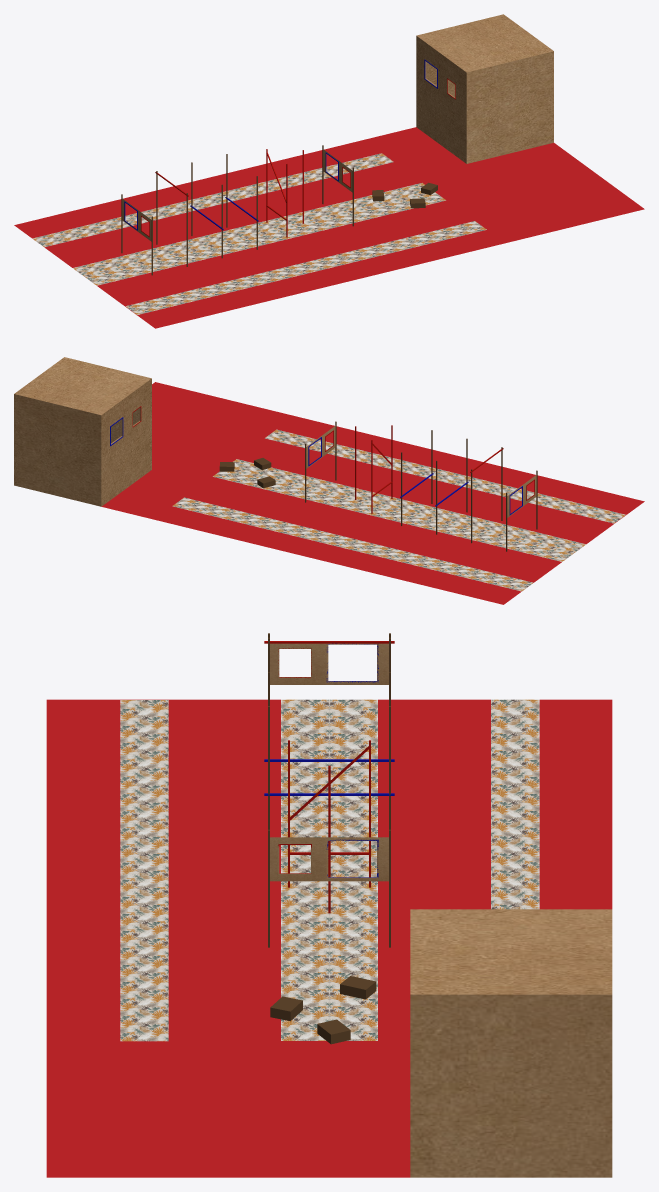
File: all.glb
The picture shows the model from 3 angles, top to bottom: view 1: azimuth 30°, elevation 25°; view 2: azimuth 150°, elevation 25°; view 3: azimuth 270°, elevation 25°; orthographic projection. The views are drawn at different scales.
Visible parts, largest first — view 1: carpete, caixa, wallpaper_right, wallpaper_center_right, wallpaper_center_left, wallpaper_left, janelas, janelas.001, canos; view 2: carpete, caixa, wallpaper_left, wallpaper_center_right, wallpaper_center_left, wallpaper_right, janelas, janelas.001, canos; view 3: carpete, caixa, wallpaper_right, wallpaper_center_left, wallpaper_center_right, wallpaper_left, janelas.001, janelas, canos.
Part boxes in pixels (x1,y1,x2,y2): carpete: (14,127,644,328); caixa: (416,14,553,163); wallpaper_right: (125,221,486,314); wallpaper_center_right: (85,192,445,285); wallpaper_center_left: (73,183,424,276); wallpaper_left: (32,153,393,247); janelas: (121,194,152,275); janelas.001: (322,145,353,226); canos: (266,149,303,237); carpete: (101,382,644,604); caixa: (14,357,151,506); wallpaper_left: (172,497,533,591); wallpaper_center_right: (233,459,585,552); wallpaper_center_left: (213,470,573,561); wallpaper_right: (265,429,625,523); janelas: (506,470,537,551); janelas.001: (305,421,336,502); canos: (355,425,392,513); carpete: (46,699,612,1177); caixa: (410,909,612,1177); wallpaper_right: (120,700,168,1041); wallpaper_center_left: (329,699,377,1040); wallpaper_center_right: (281,699,329,1040); wallpaper_left: (491,699,539,909); janelas.001: (268,829,390,947); janelas: (268,633,390,684); canos: (288,740,370,913).
Bounding box in the file's own units: 14 × 2.51 × 7.
6 materials, 2 textured.
